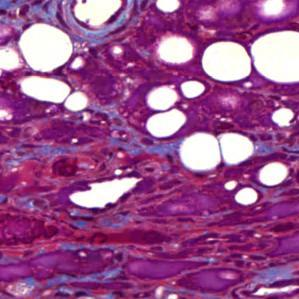steatosis: (15, 23, 74, 74), (197, 41, 255, 81), (177, 132, 221, 171), (146, 83, 180, 111)
